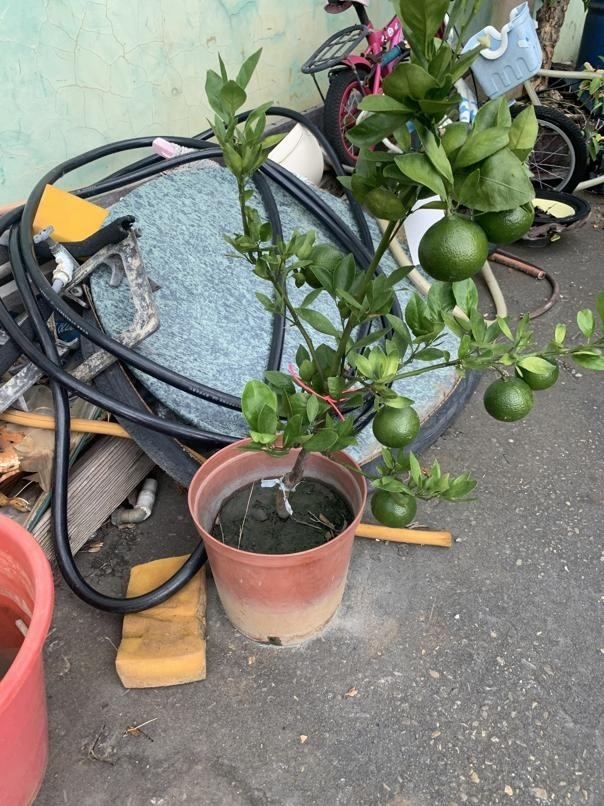Tangerine: (417, 211, 489, 279), (481, 372, 535, 423), (367, 483, 416, 529), (372, 404, 419, 448)
